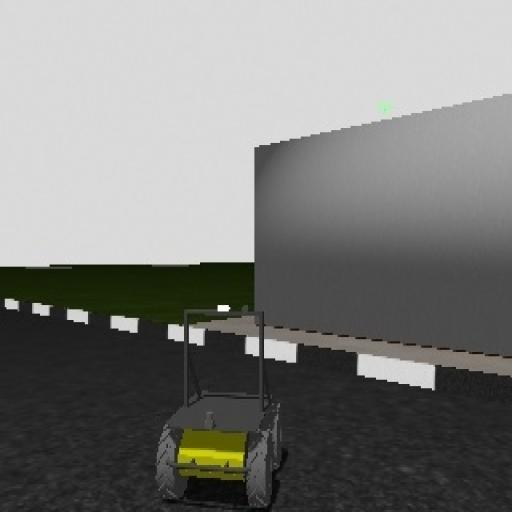huskya200: (154, 303, 288, 503)
